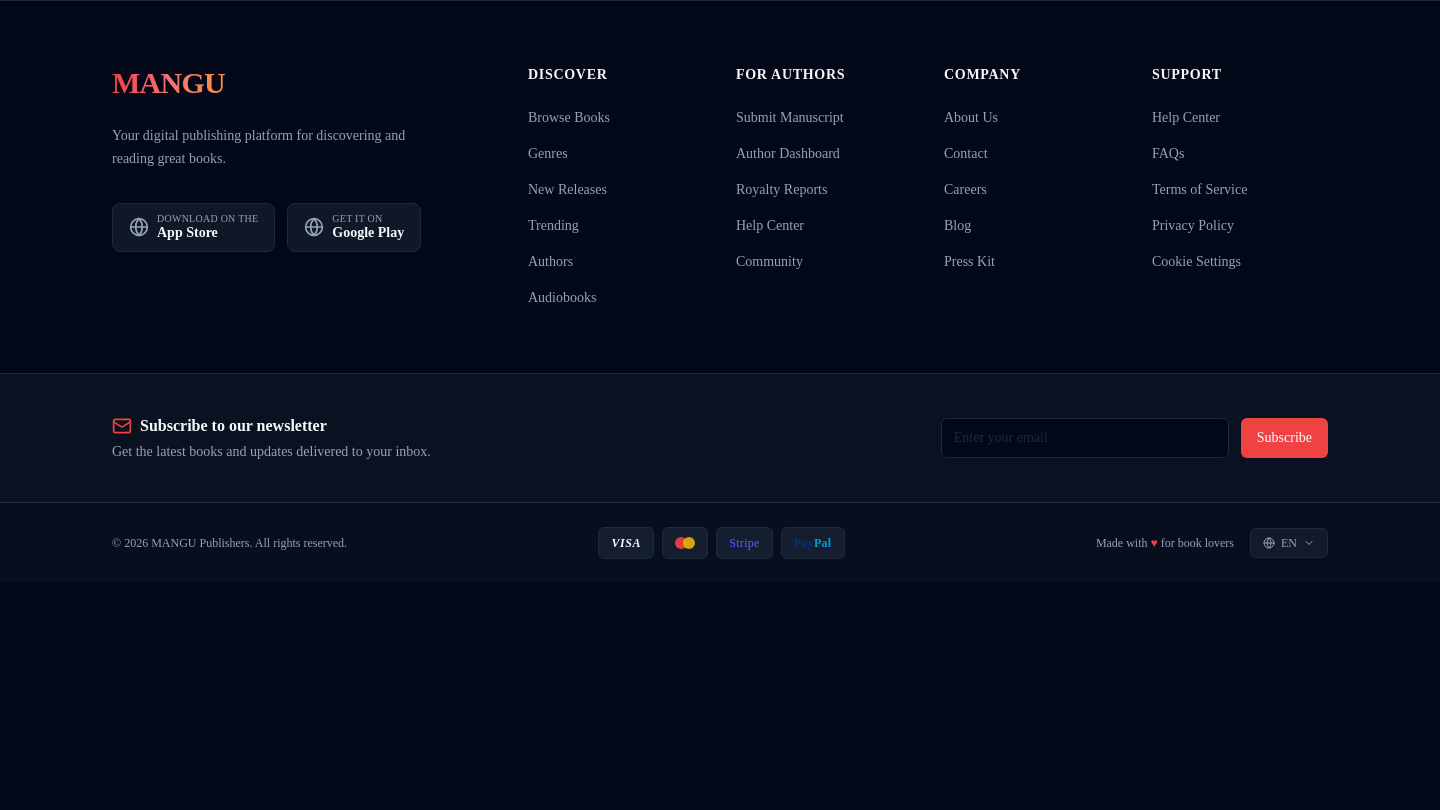
Test case: Footer newsletter form (P0-013) › renders a real error (role="alert") when the backend fails — never a fake success
The width and height of the screenshot is (1440, 810).
Type "reader@example.com" into the field named "email address for newsletter". click: (1085,438)
box: [941,418,1229,458]
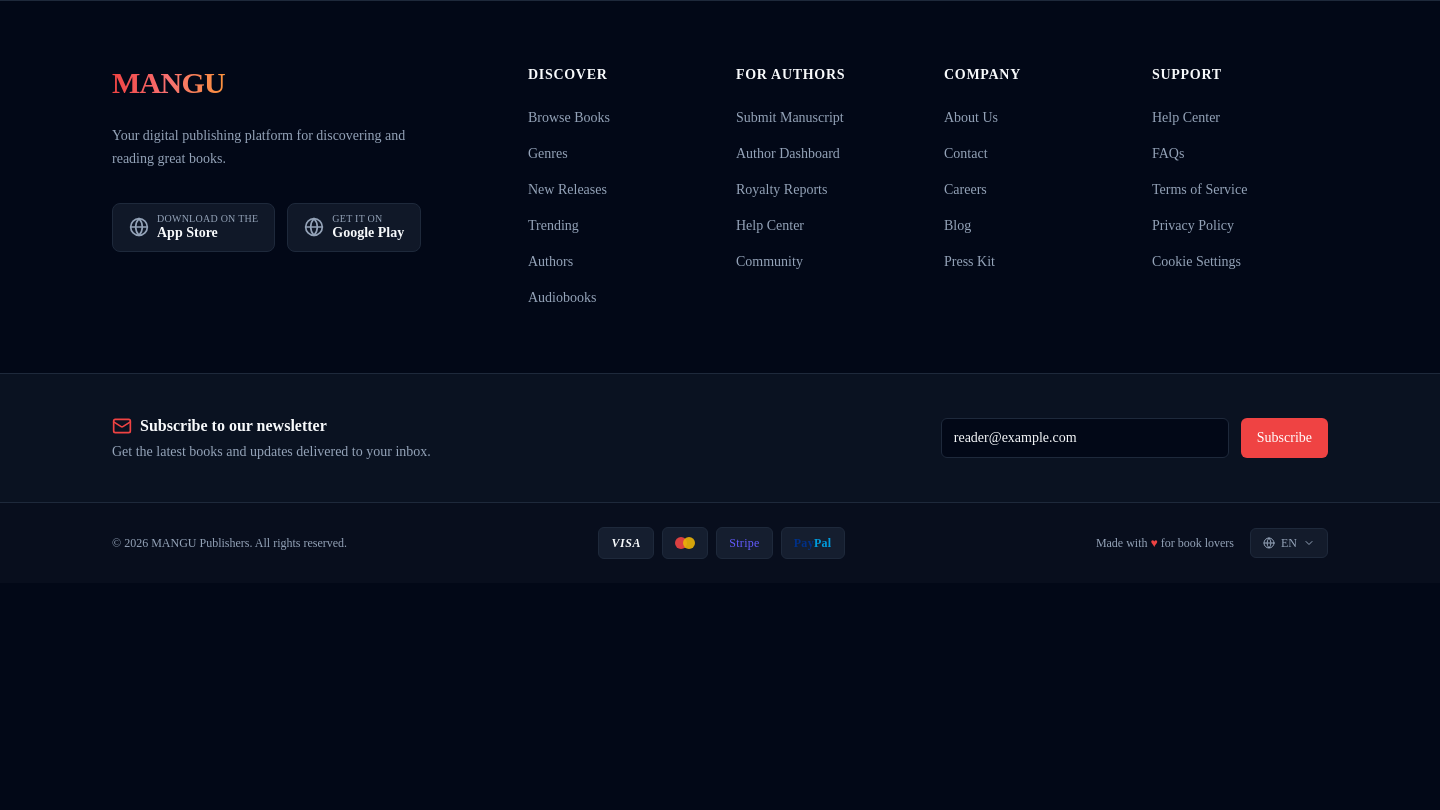
Click the button "Subscribe". click: (1284,438)
box: [1241,418,1328,458]
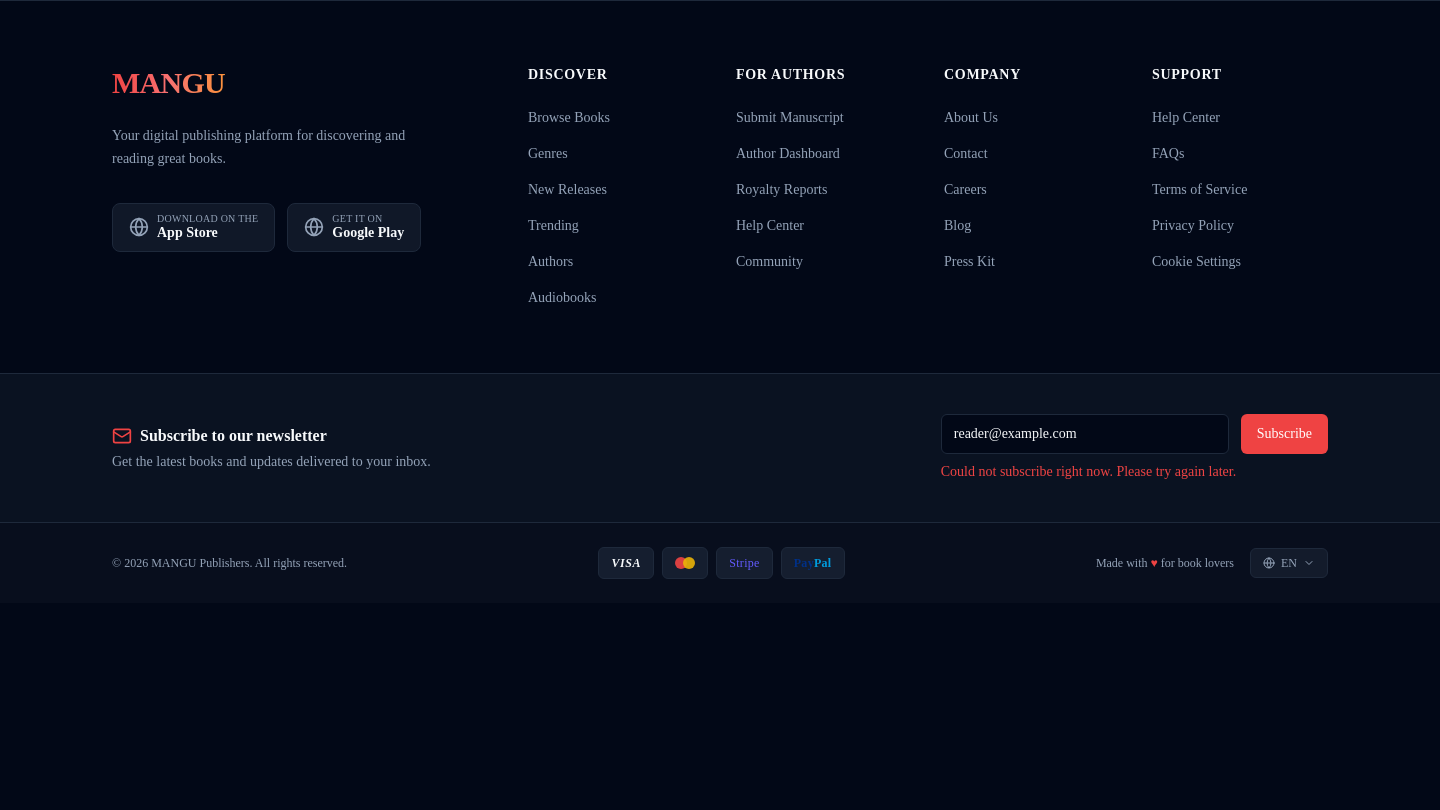
Now the message shows "Could not subscribe right now.", box [941,464,1236,479]
